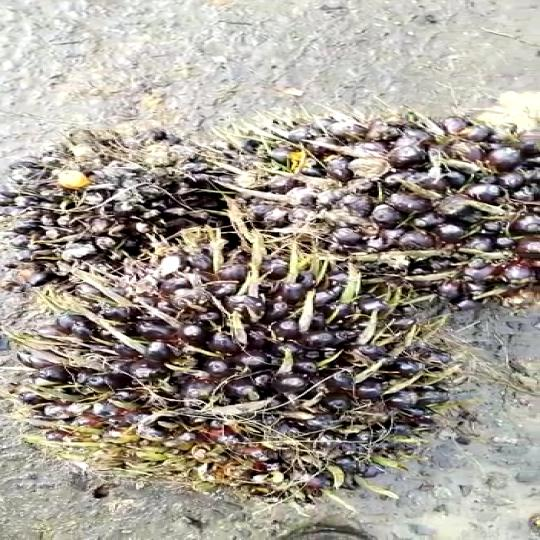mentah: (0, 129, 540, 511)
